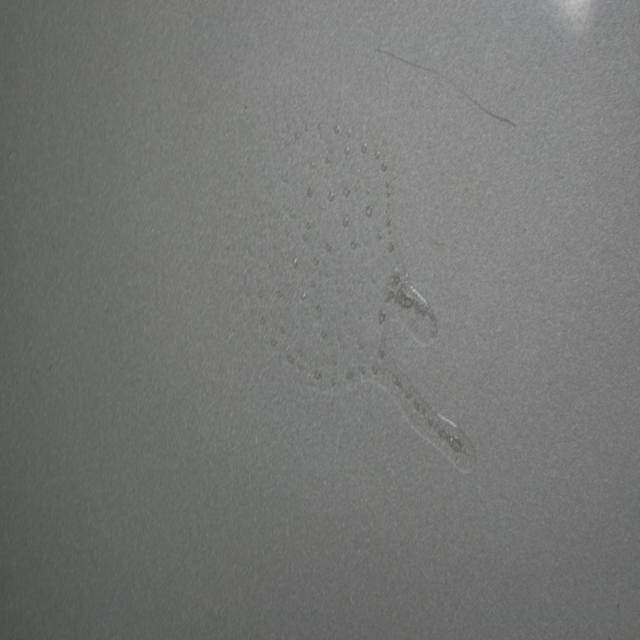runs: (228, 114, 474, 474)
scratch: (371, 44, 520, 135)
